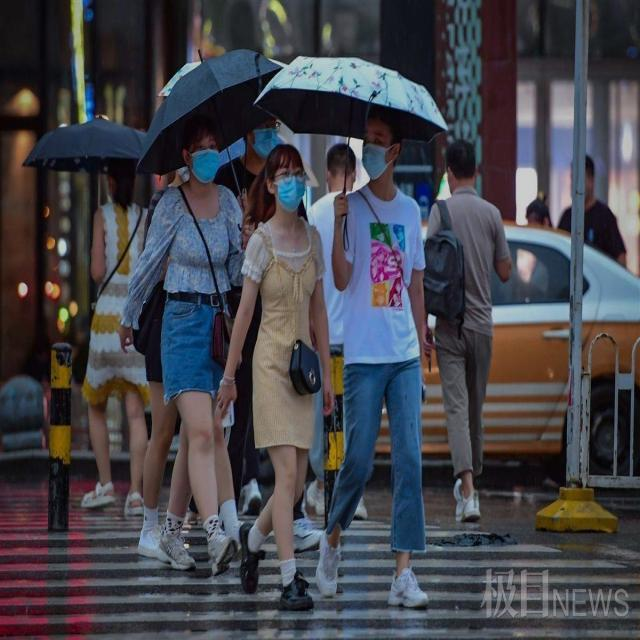non-fight: (312, 109, 429, 609), (227, 134, 335, 611), (423, 132, 514, 529)
